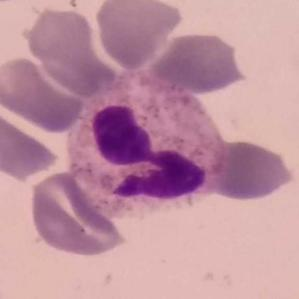Neutrophil: (68, 69, 229, 221)
RBC: (26, 169, 132, 258), (145, 29, 250, 97), (0, 53, 87, 133), (92, 0, 183, 70), (206, 137, 297, 204), (21, 4, 100, 72), (0, 101, 63, 180)
